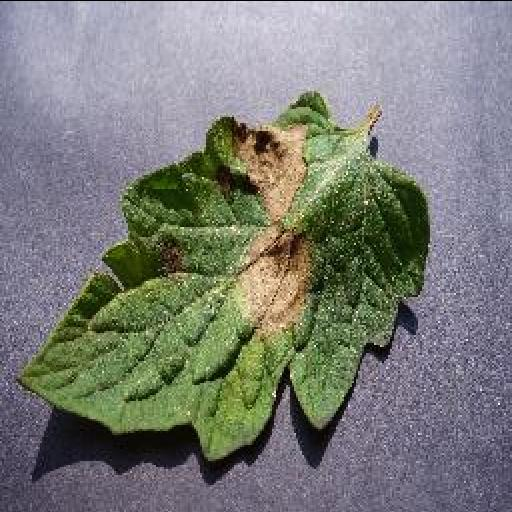disease_tomato: (18, 88, 432, 462)
